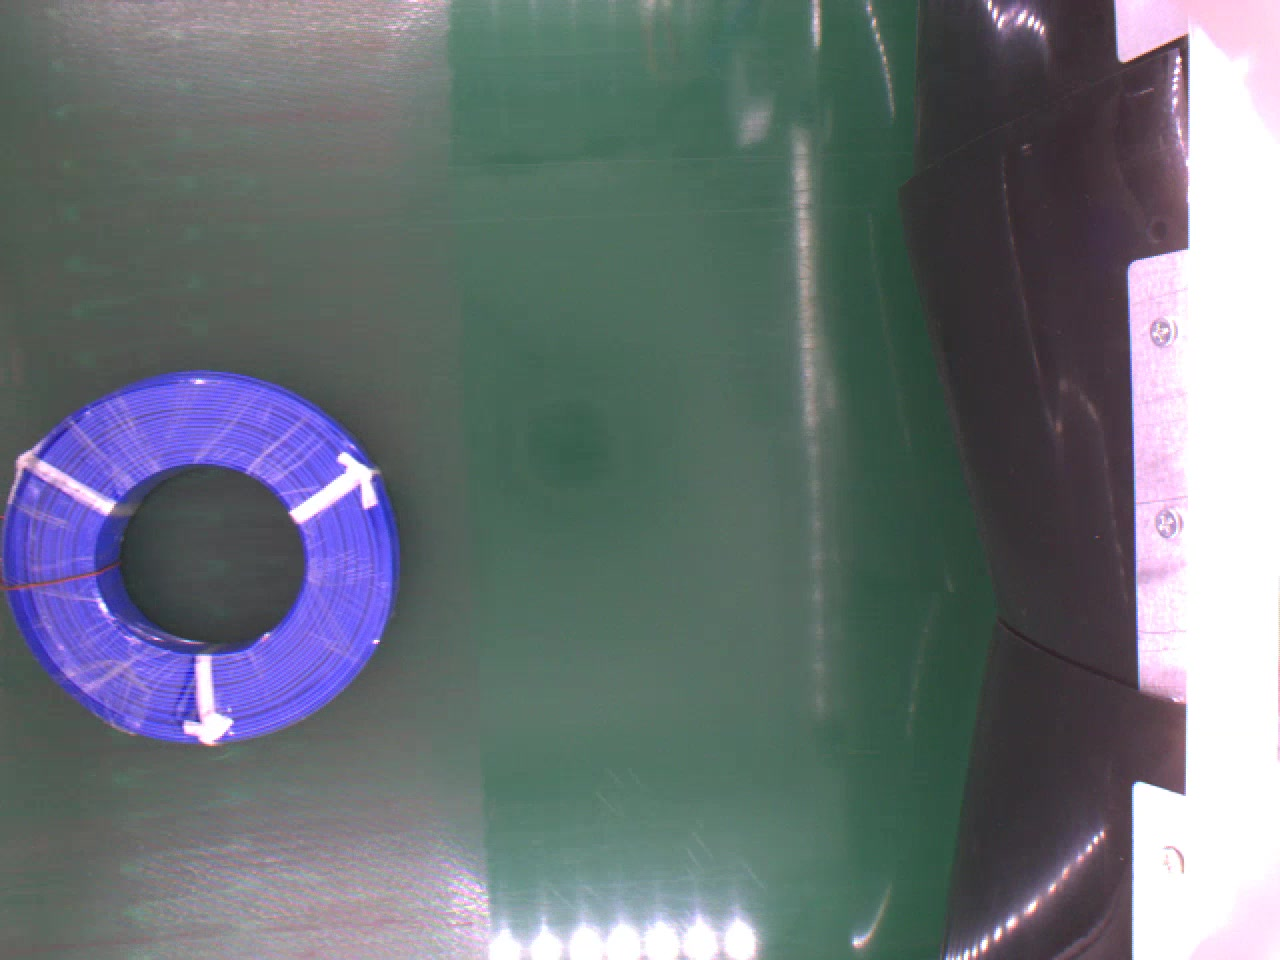blue: (6, 372, 397, 750)
